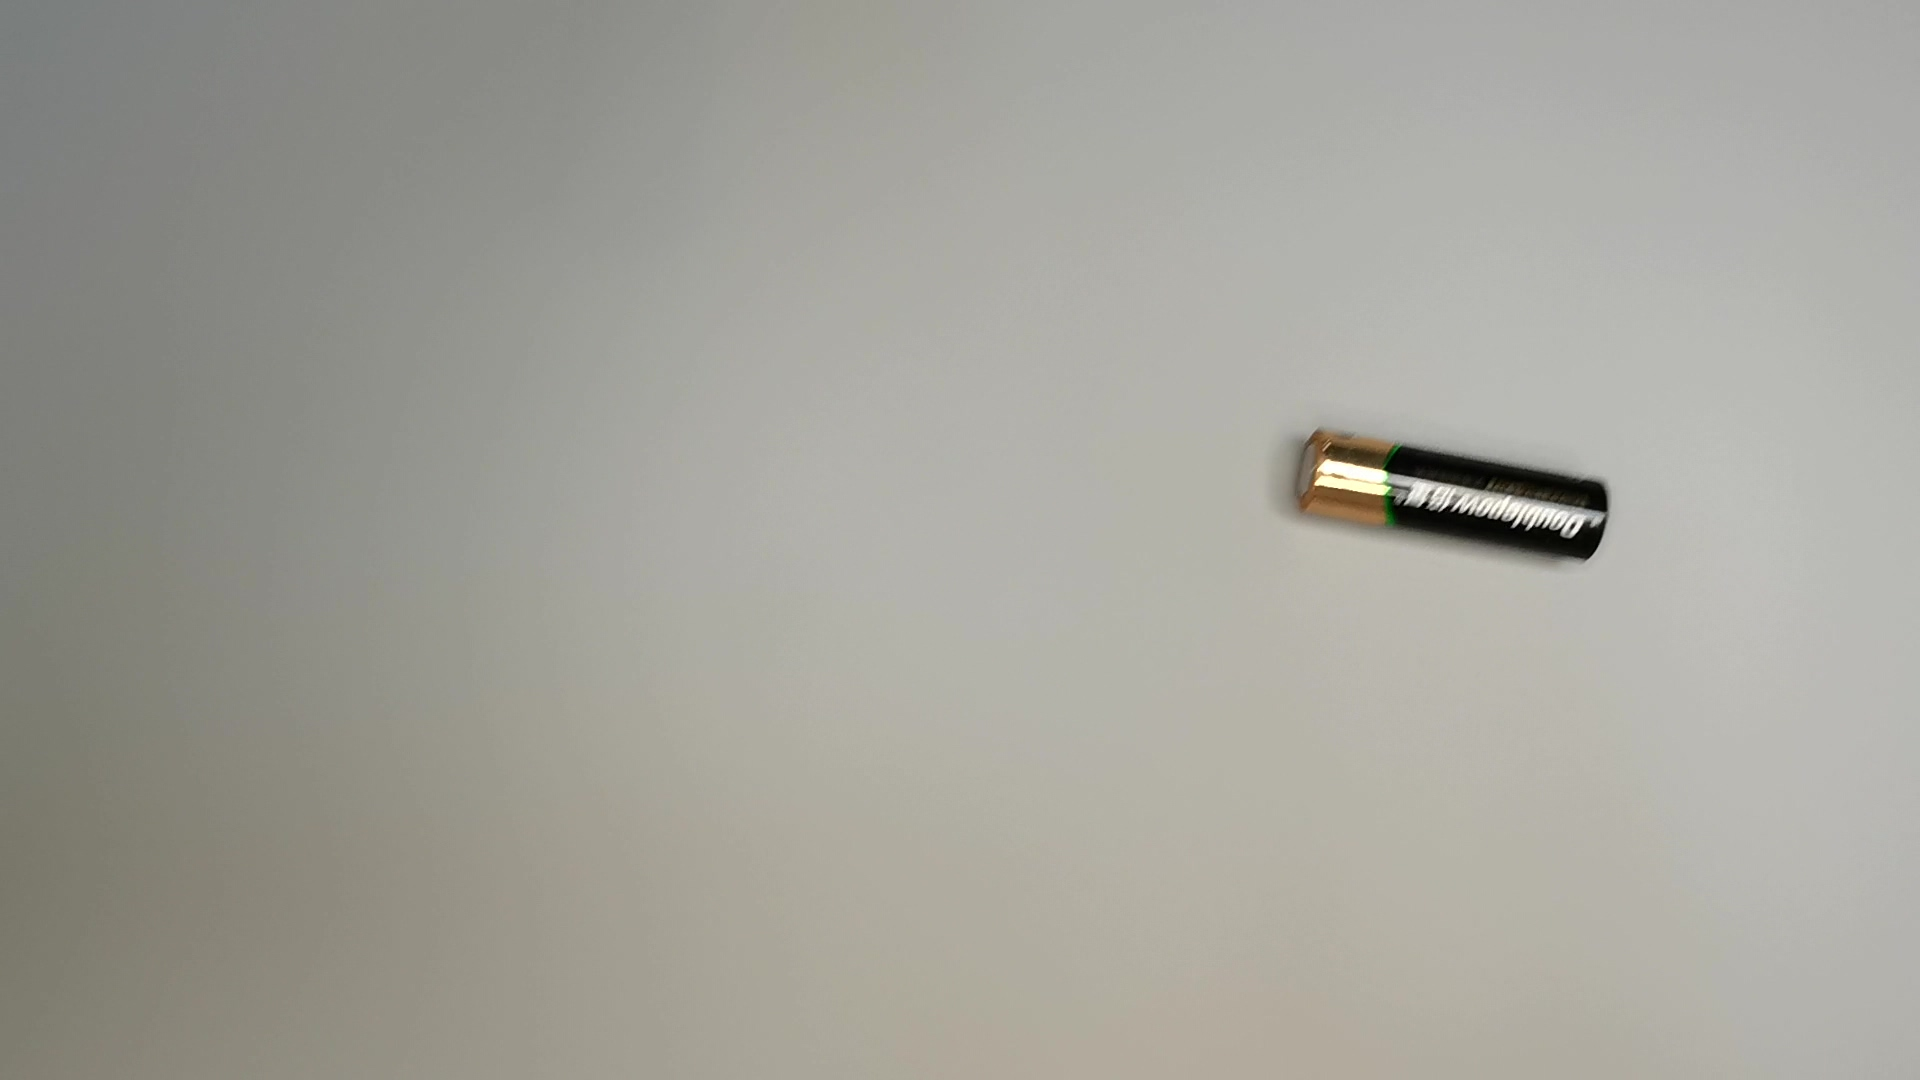battery: (1288, 423, 1618, 575)
